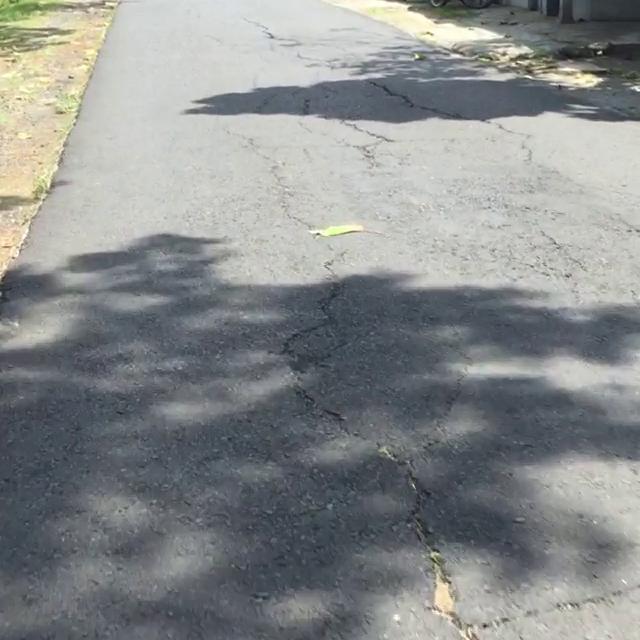retak_memanjang: (204, 128, 478, 640), (378, 455, 640, 640)
